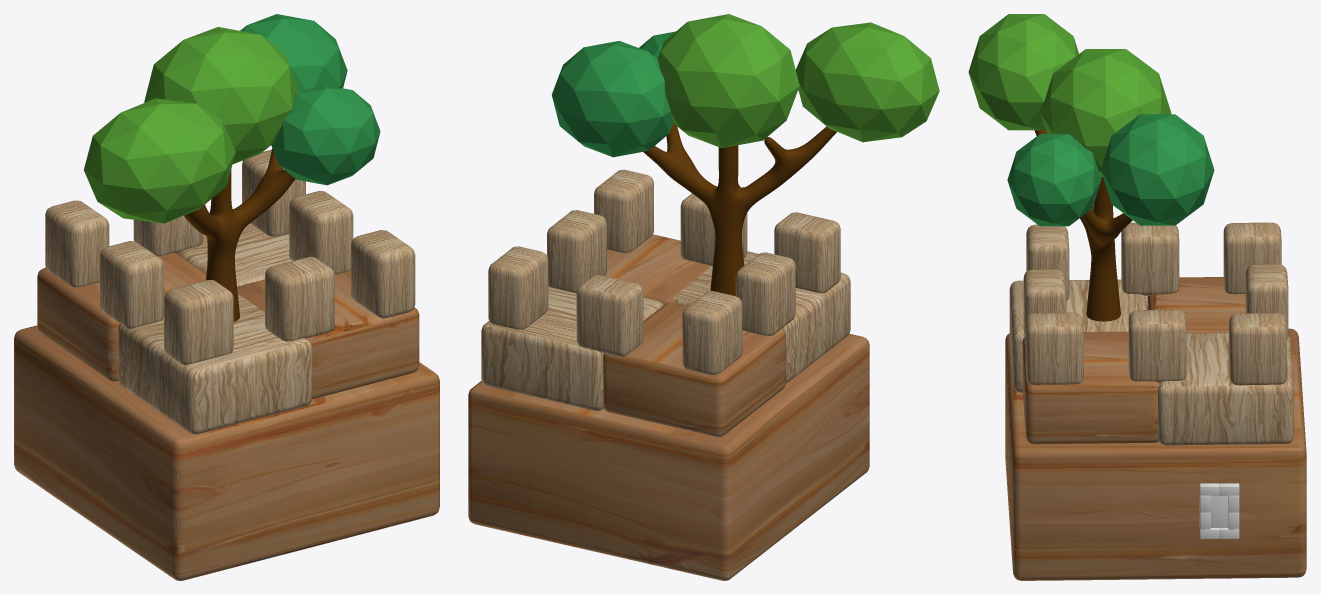
Rendered from TopTree.fbx.
3 views of the same model, side by side, from view 1: azimuth 30°, elevation 25°; view 2: azimuth 150°, elevation 25°; view 3: azimuth 270°, elevation 25° (orthographic). The views are drawn at different scales.
Parts seen in each view (by area): view 1: Cube.113, Cube.118, Icosphere.001, Icosphere.004, Cube.119, Icosphere.003, Cube.120, Cube.125, Cube.126, Vert, Cube.124, Cube.127 (+6 smaller); view 2: Cube.113, Icosphere.004, Cube.120, Icosphere.001, Icosphere.002, Cube.121, Vert, Cube.118, Cube.129, Cube.128, Cube.123, Cube.127 (+5 smaller); view 3: Cube.113, Cube.121, Cube.119, Icosphere.002, Icosphere.004, Icosphere.001, Icosphere.003, Cube.124, Cube.122, Cube.123, Cube.127, Vert (+7 smaller).
Boxes of the visible parts, x1,y1,x2,y2 form: Cube.113: [14, 325, 439, 580]; Cube.118: [118, 293, 312, 434]; Icosphere.001: [84, 98, 235, 223]; Icosphere.004: [144, 27, 299, 163]; Cube.119: [237, 270, 419, 398]; Icosphere.003: [271, 84, 380, 185]; Cube.120: [37, 253, 206, 381]; Cube.125: [265, 256, 334, 341]; Cube.126: [164, 280, 233, 364]; Vert: [184, 149, 295, 321]; Cube.124: [351, 230, 415, 318]; Cube.127: [100, 241, 163, 328]; Cube.113: [468, 333, 869, 580]; Icosphere.004: [657, 14, 799, 147]; Cube.120: [603, 302, 785, 436]; Icosphere.001: [795, 22, 939, 142]; Icosphere.002: [552, 41, 673, 157]; Cube.121: [481, 286, 663, 410]; Vert: [643, 123, 836, 295]; Cube.118: [674, 251, 850, 382]; Cube.129: [576, 274, 643, 356]; Cube.128: [682, 291, 742, 374]; Cube.123: [488, 246, 548, 329]; Cube.127: [735, 252, 795, 335]; Cube.113: [1005, 328, 1306, 580]; Cube.121: [1158, 332, 1293, 445]; Cube.119: [1022, 331, 1159, 444]; Icosphere.002: [1101, 114, 1214, 225]; Icosphere.004: [1040, 49, 1171, 177]; Icosphere.001: [968, 14, 1078, 130]; Icosphere.003: [1007, 134, 1101, 226]; Cube.124: [1025, 312, 1083, 384]; Cube.122: [1128, 309, 1186, 382]; Cube.123: [1229, 313, 1286, 385]; Cube.127: [1121, 222, 1179, 295]; Vert: [1034, 129, 1132, 321].
Bounding box in the file's own units: 9.07 × 12.11 × 8.2.
